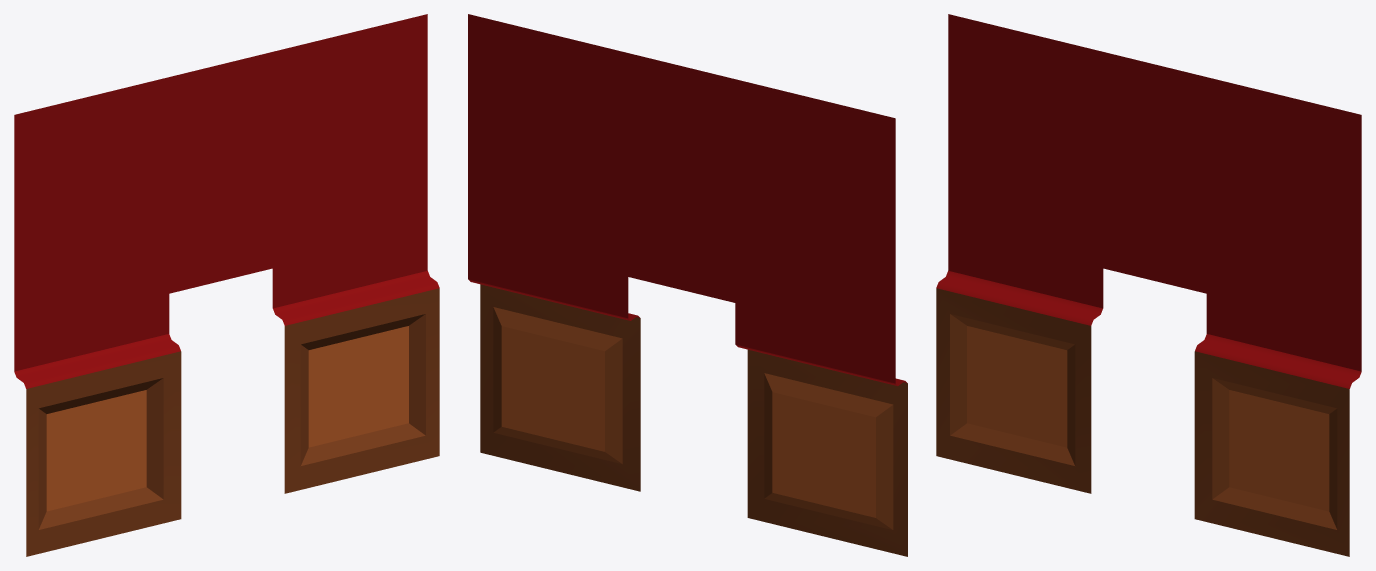
Rendered from BarMuurAansluiting.fbx.
3 views of the same model, side by side, from view 1: azimuth 30°, elevation 25°; view 2: azimuth 150°, elevation 25°; view 3: azimuth 330°, elevation 25° (orthographic). The views are drawn at different scales.
Visible parts, largest first — view 1: Plane.006; view 2: Plane.006; view 3: Plane.006.
Boxes of the visible parts, x1,y1,x2,y2 form: Plane.006: (14, 14, 439, 556); Plane.006: (468, 14, 907, 556); Plane.006: (936, 14, 1361, 556).
Bounding box in the file's own units: 2 × 2 × 0.1.
